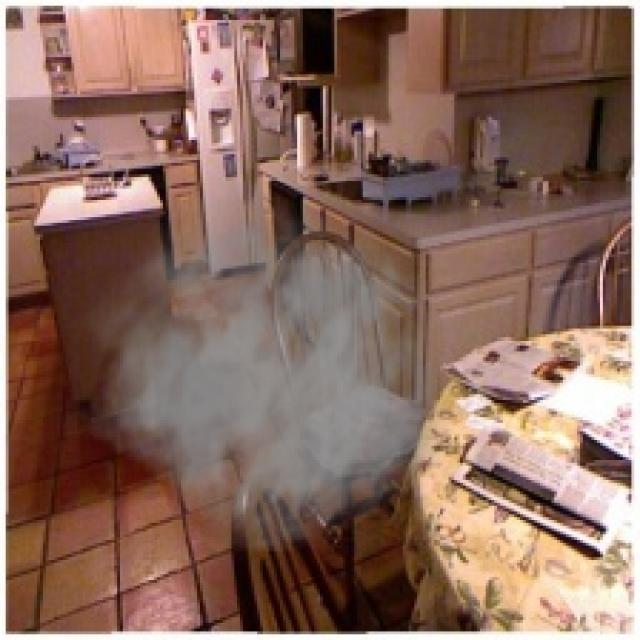Smoke: (74, 175, 454, 554)
